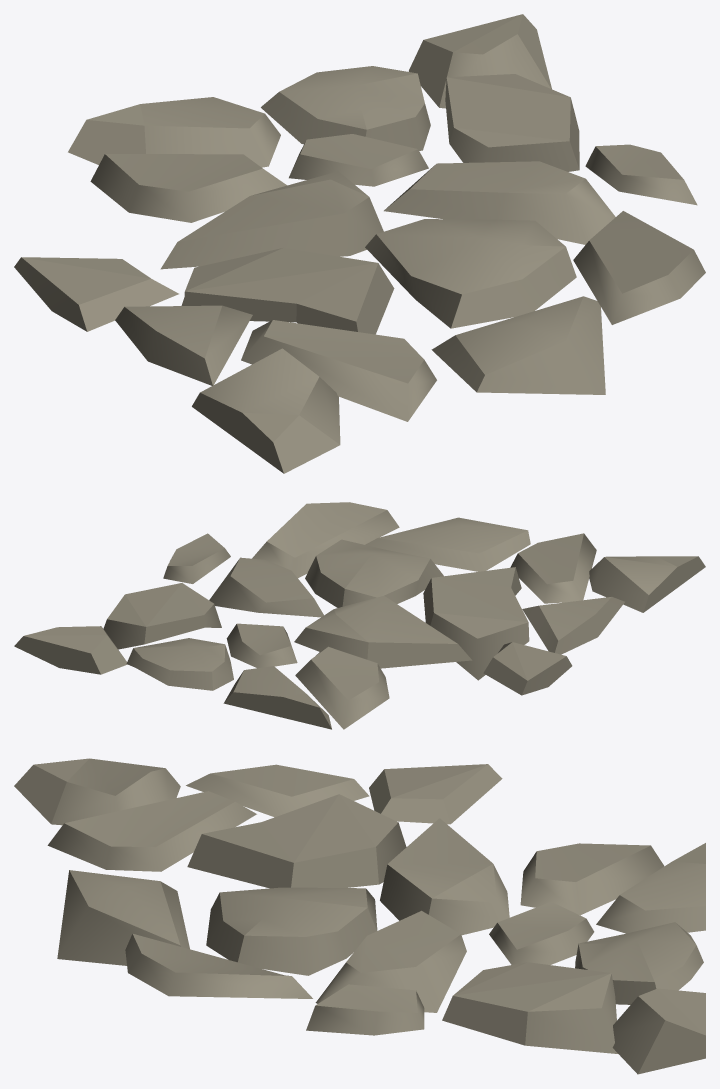
The model's file is Stone_Path_Turn_RB.glb.
3 views of the same model, one above another, from view 1: azimuth 30°, elevation 25°; view 2: azimuth 150°, elevation 25°; view 3: azimuth 270°, elevation 25° (orthographic). The views are drawn at different scales.
Visible parts, largest first — view 1: Stone_Path_Turn_RB; view 2: Stone_Path_Turn_RB; view 3: Stone_Path_Turn_RB.
Boxes of the visible parts, x1=… form: Stone_Path_Turn_RB: x1=14, y1=14, x2=705, y2=473; Stone_Path_Turn_RB: x1=14, y1=502, x2=705, y2=729; Stone_Path_Turn_RB: x1=14, y1=758, x2=705, y2=1074.
Bounding box in the file's own units: 1.17 × 0.1509 × 1.22.
